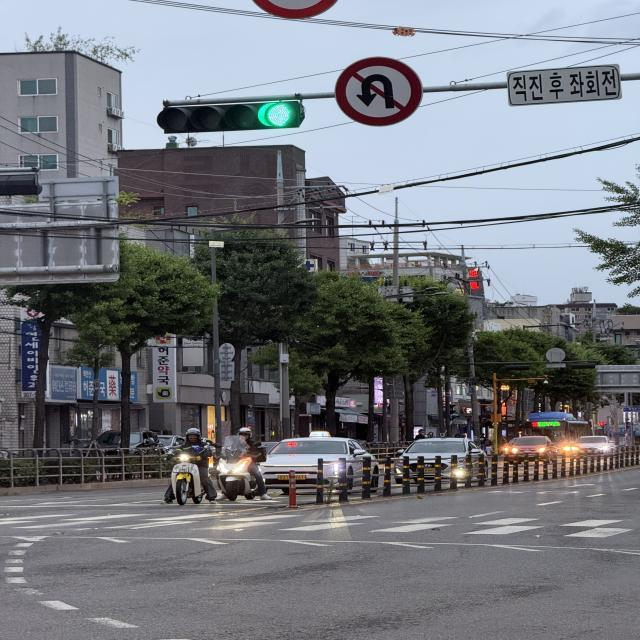car: (252, 429, 394, 498), (383, 428, 502, 490), (502, 428, 563, 463), (564, 431, 625, 460)
motorcycle: (160, 421, 220, 508), (213, 424, 276, 505)
